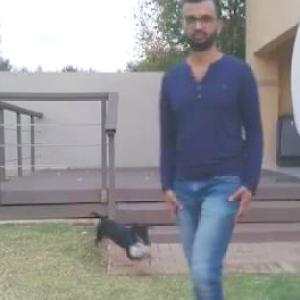follow: (138, 7, 246, 299)
